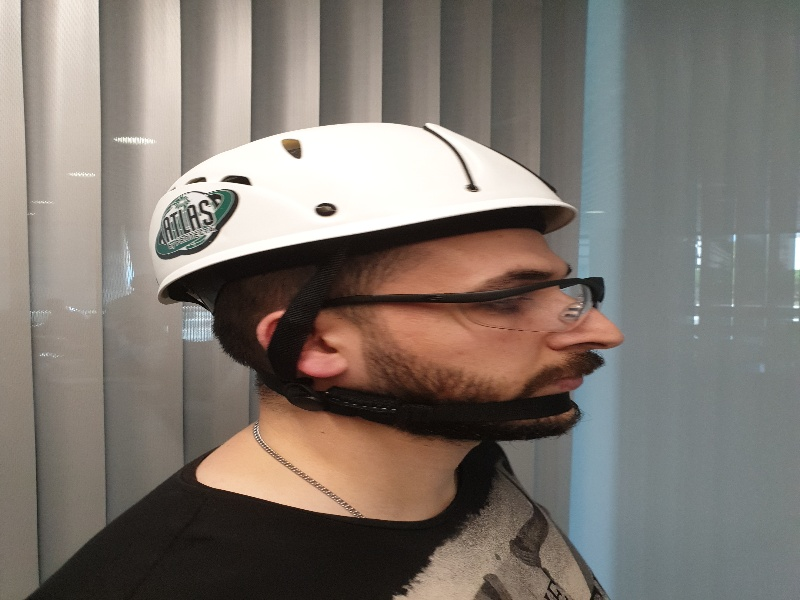Baret: (149, 122, 581, 291)
Gozluk: (351, 275, 607, 336)
